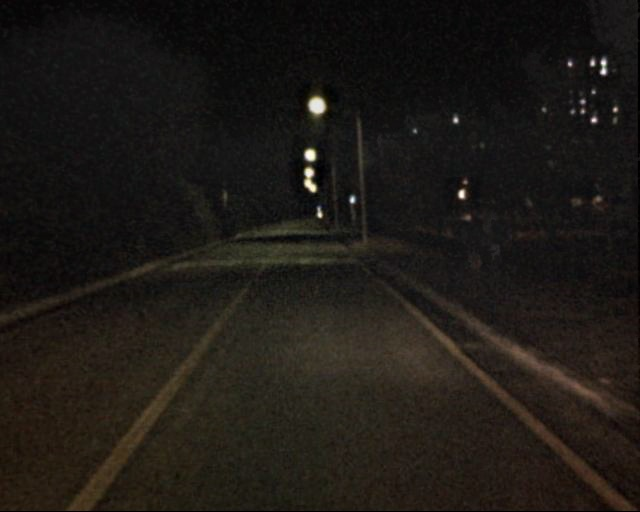person: (480, 210, 507, 276), (460, 212, 485, 272)
